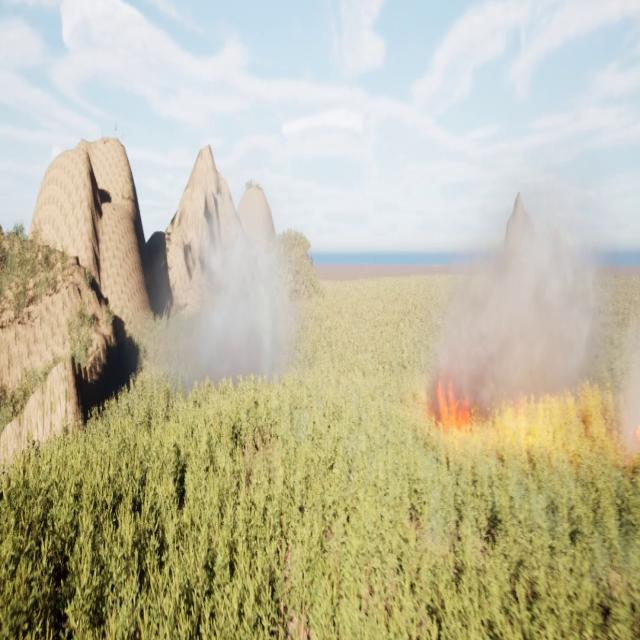fire: (430, 379, 473, 431)
smoke: (420, 204, 601, 415), (148, 206, 294, 393), (612, 323, 640, 463)
